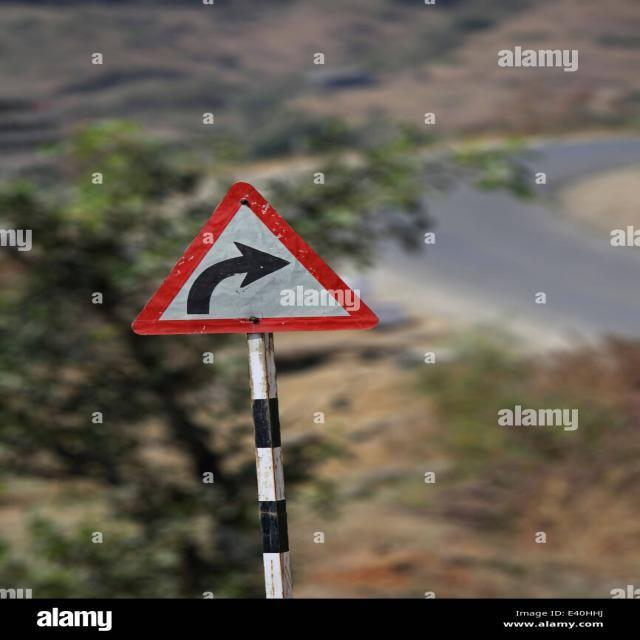right hand curve: (133, 177, 371, 330)
